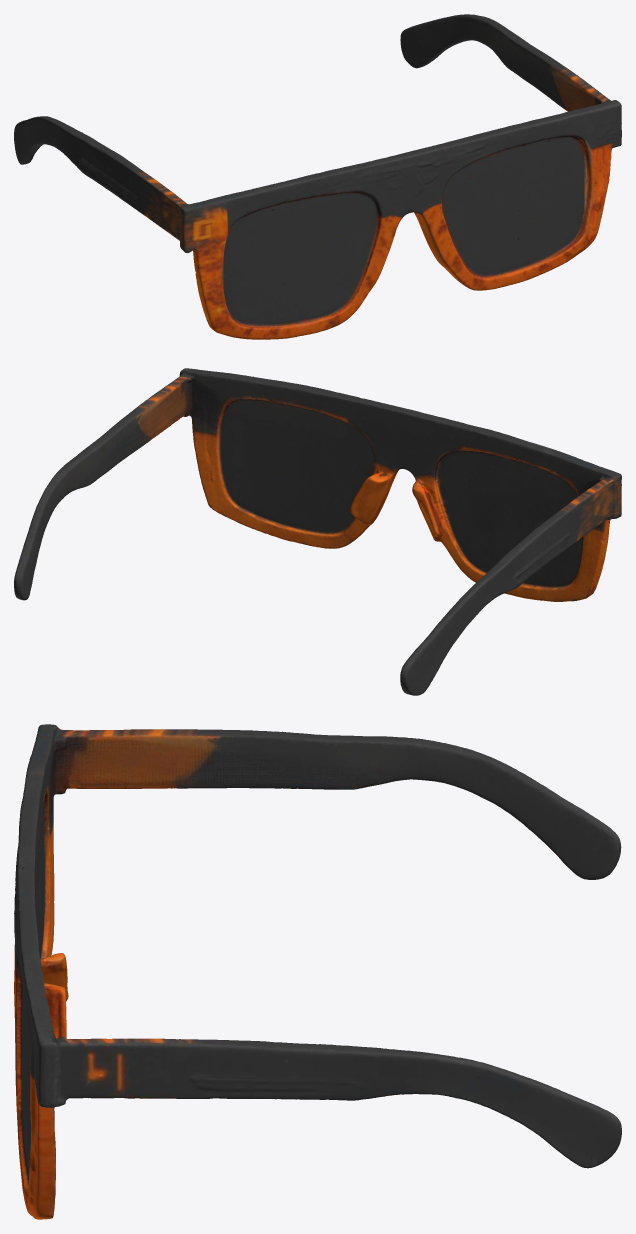
File: arges_glasses.glb
3 views of the same model, one above another, from view 1: azimuth 30°, elevation 25°; view 2: azimuth 150°, elevation 25°; view 3: azimuth 270°, elevation 25° (orthographic). The views are drawn at different scales.
Bounding box in the file's own units: 2 × 0.68 × 1.6.
Materials: 1 (1 with a texture image).
